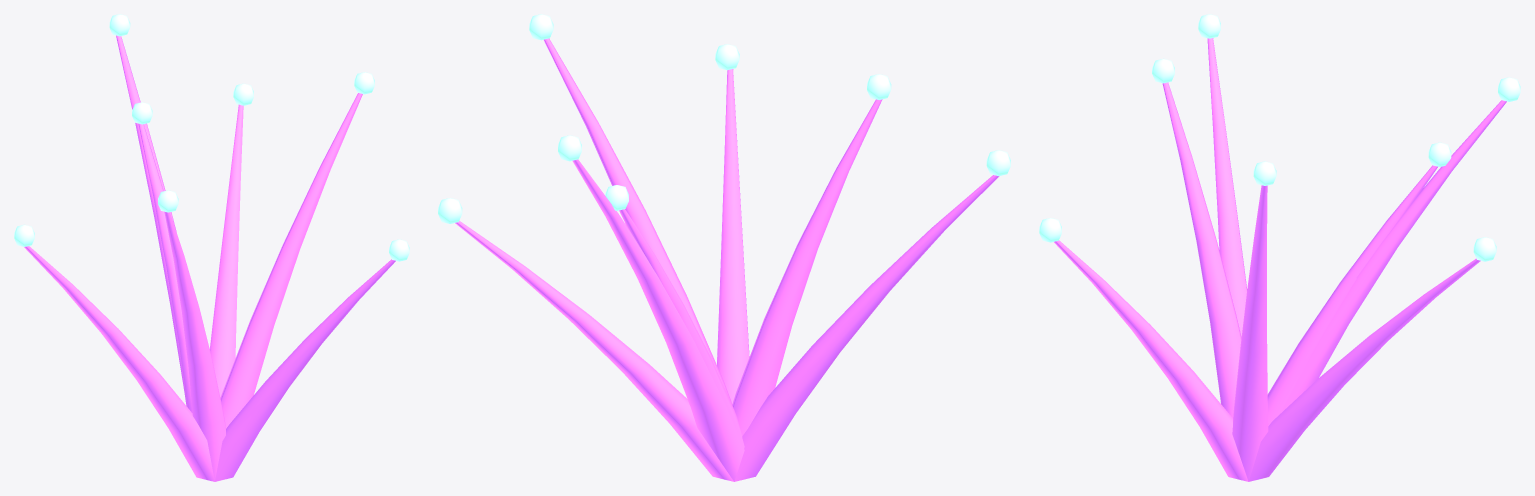
The model's file is tentacle_plant.glb.
3 views of the same model, side by side, from view 1: azimuth 30°, elevation 25°; view 2: azimuth 150°, elevation 25°; view 3: azimuth 270°, elevation 25° (orthographic). The views are drawn at different scales.
Parts seen in each view (by area): view 1: tentacle_plant_m; view 2: tentacle_plant_m; view 3: tentacle_plant_m.
Part boxes in pixels (<box>): tentacle_plant_m: <box>14,14,409,481</box>; tentacle_plant_m: <box>438,14,1010,481</box>; tentacle_plant_m: <box>1039,14,1520,481</box>.
Bounding box in the file's own units: 3.36 × 3.06 × 3.28.
